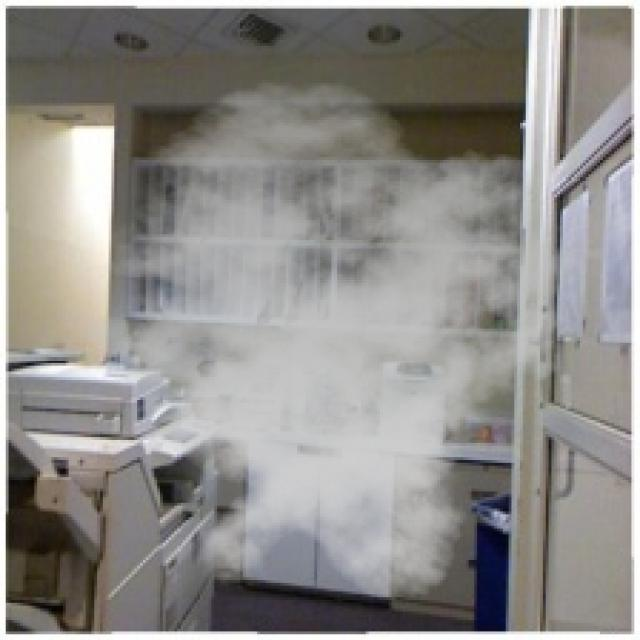smoke: (54, 80, 597, 603)
